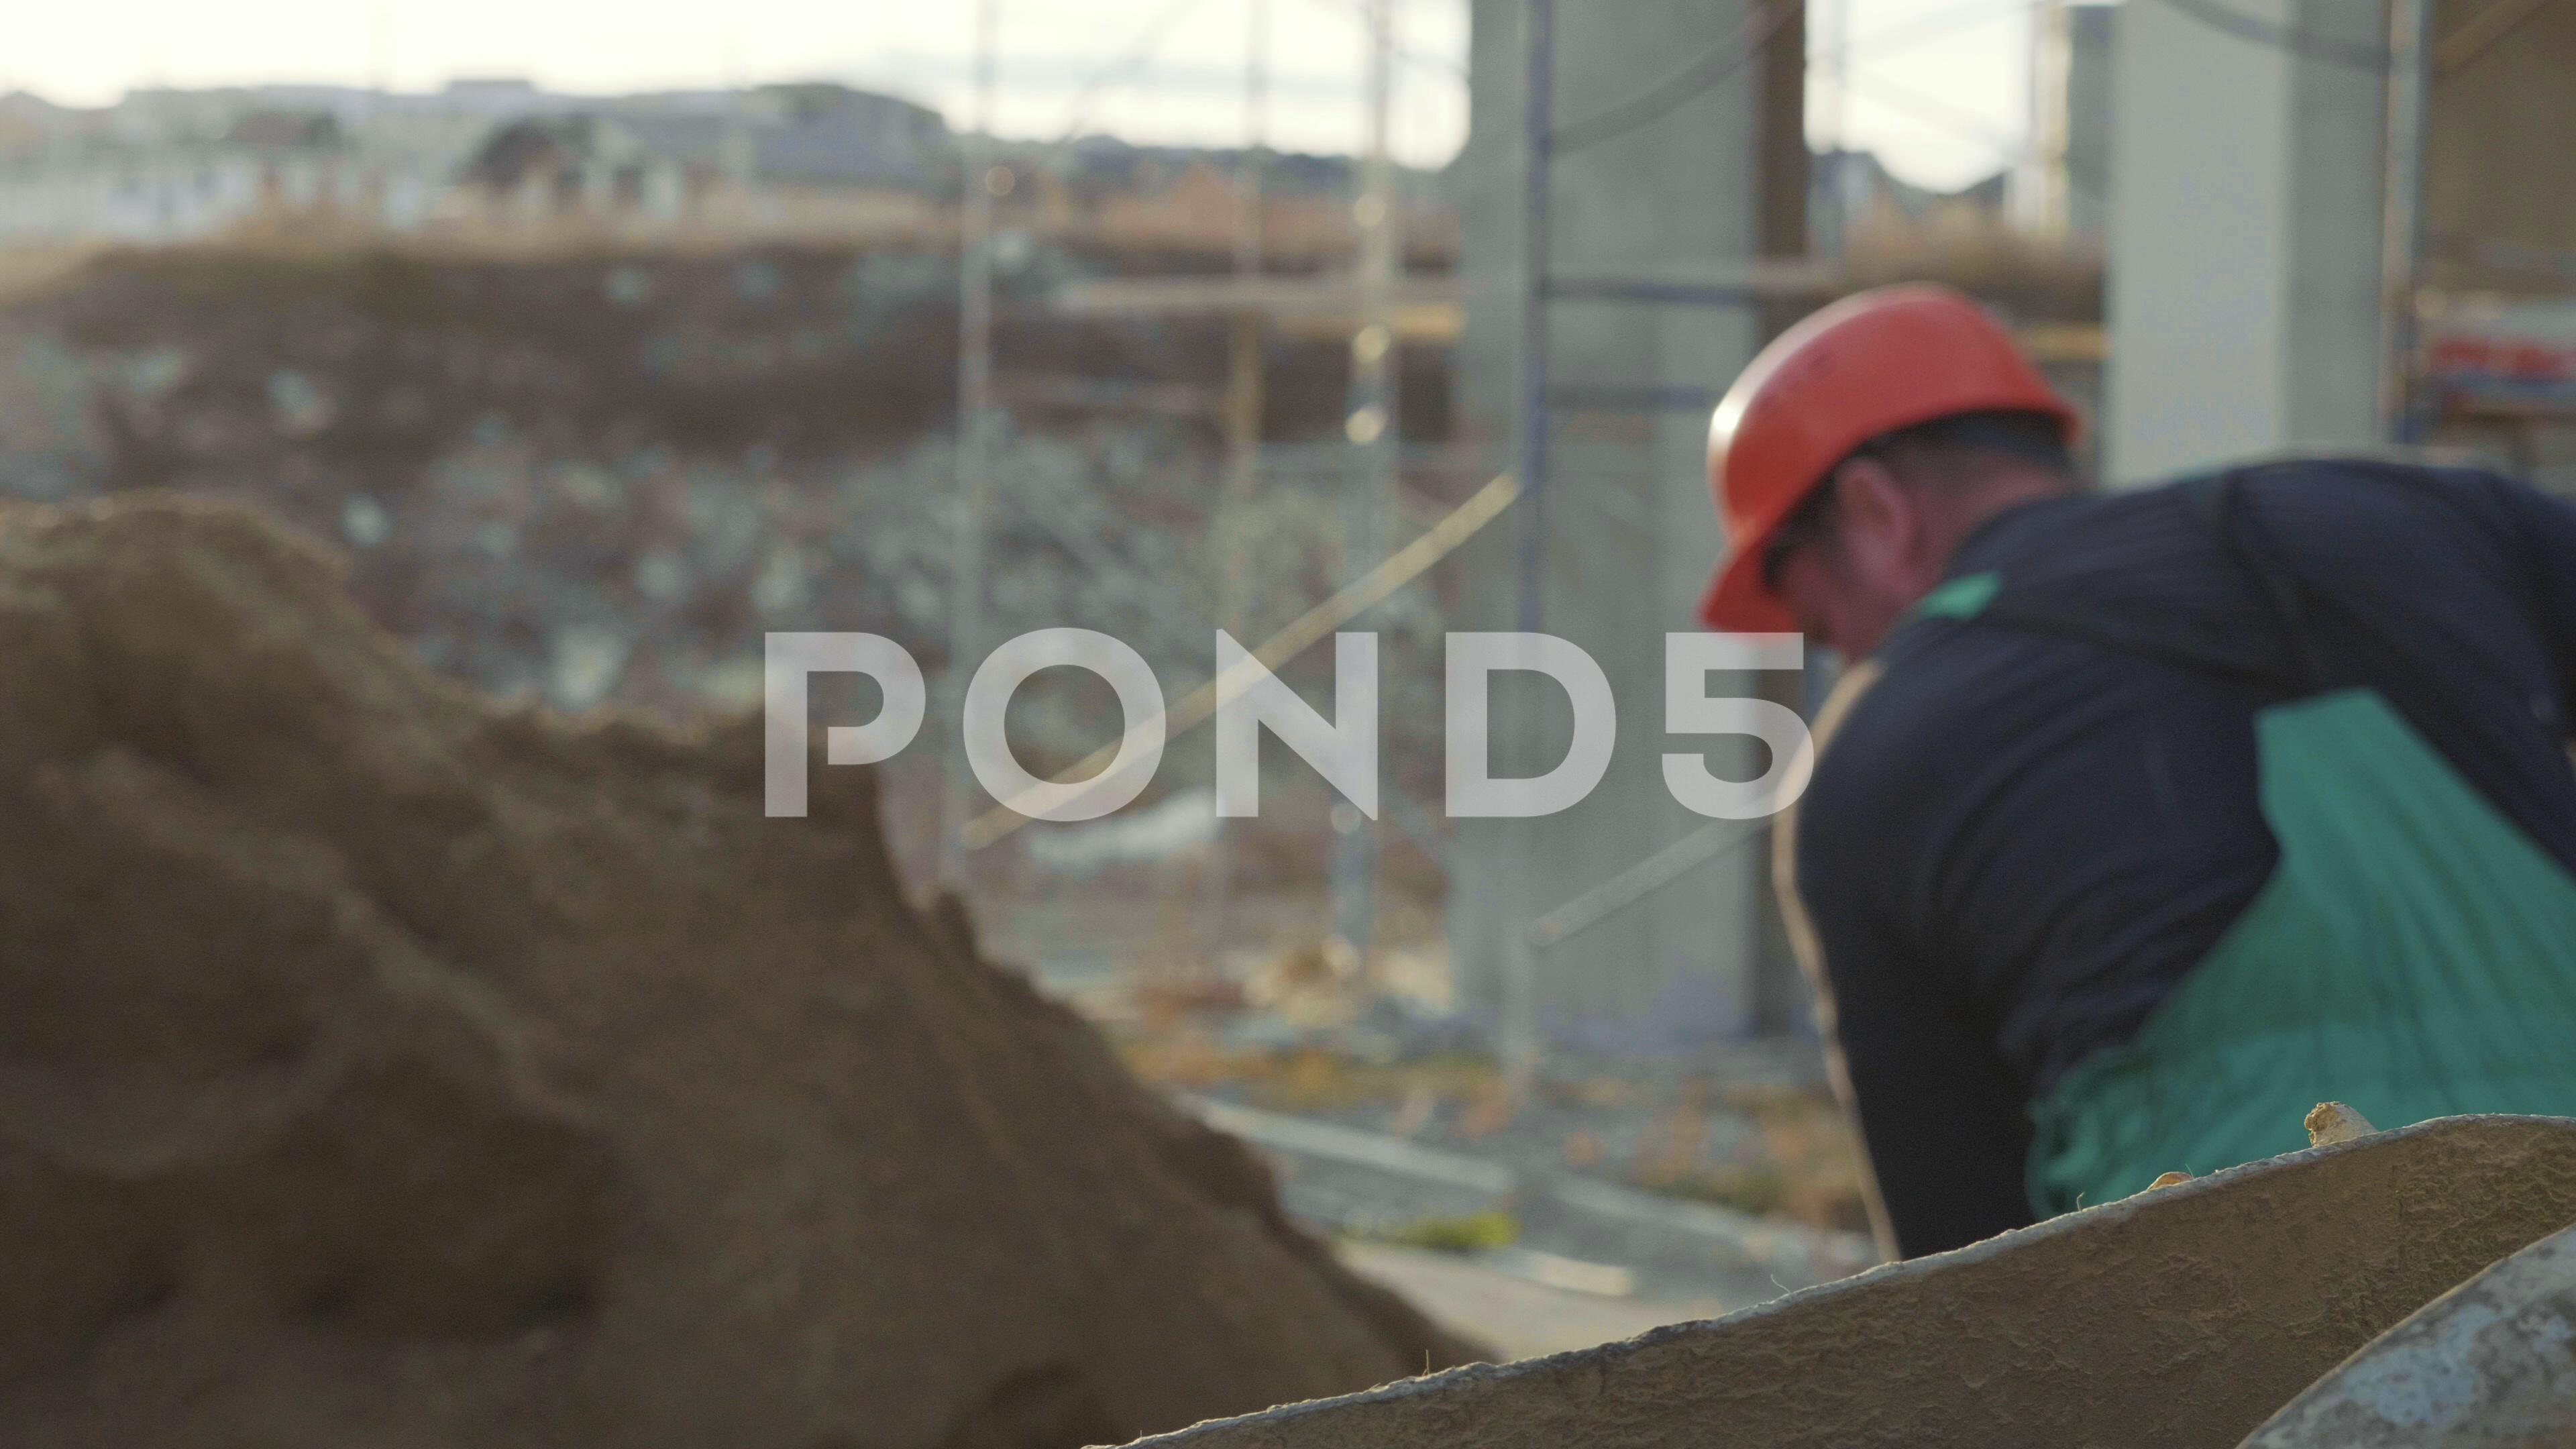hat: (1517, 225, 2285, 688)
no vest: (1668, 262, 2576, 1322)
